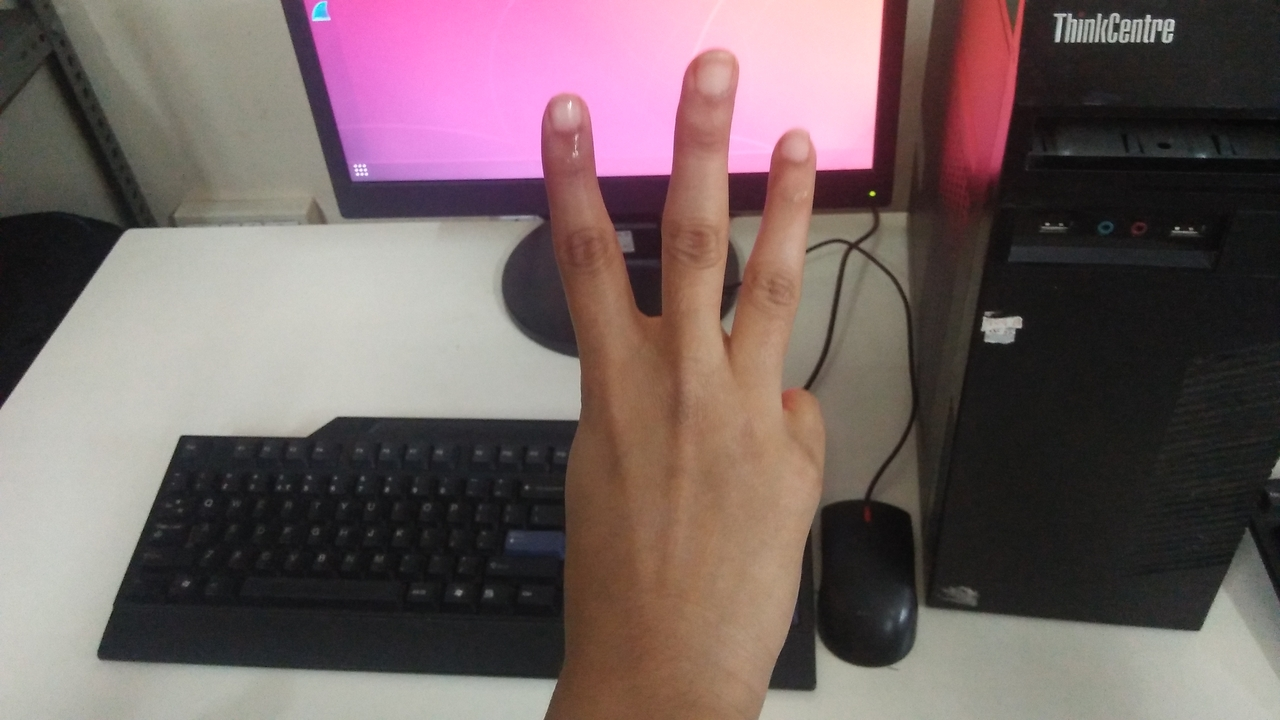fingertip: (680, 44, 742, 104), (538, 90, 594, 144), (768, 124, 822, 172)
